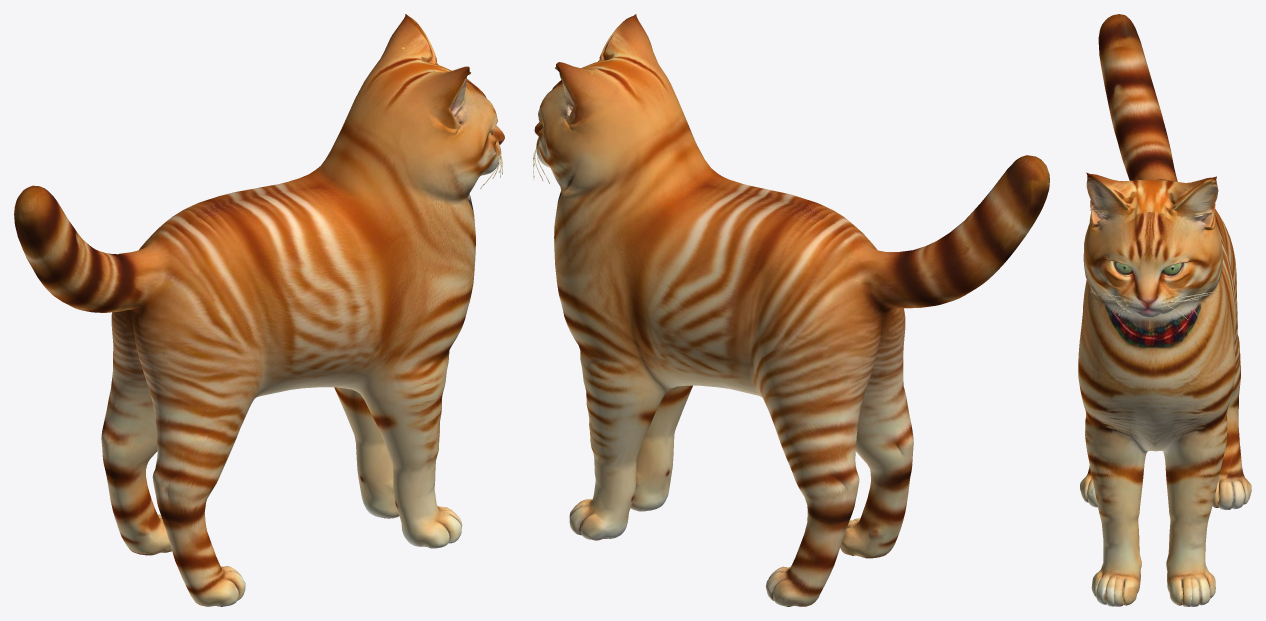
The model's file is BUTTERED.glb.
3 views of the same model, side by side, from view 1: azimuth 30°, elevation 25°; view 2: azimuth 150°, elevation 25°; view 3: azimuth 270°, elevation 25° (orthographic). The views are drawn at different scales.
Parts seen in each view (by area): view 1: fit; view 2: fit; view 3: fit.
Boxes of the visible parts, bbox=[...] form: fit: bbox=[14, 14, 504, 606]; fit: bbox=[533, 14, 1049, 606]; fit: bbox=[1078, 14, 1251, 606].
Bounding box in the file's own units: 1.09 × 1 × 0.3612.
1 material, 1 textured.
